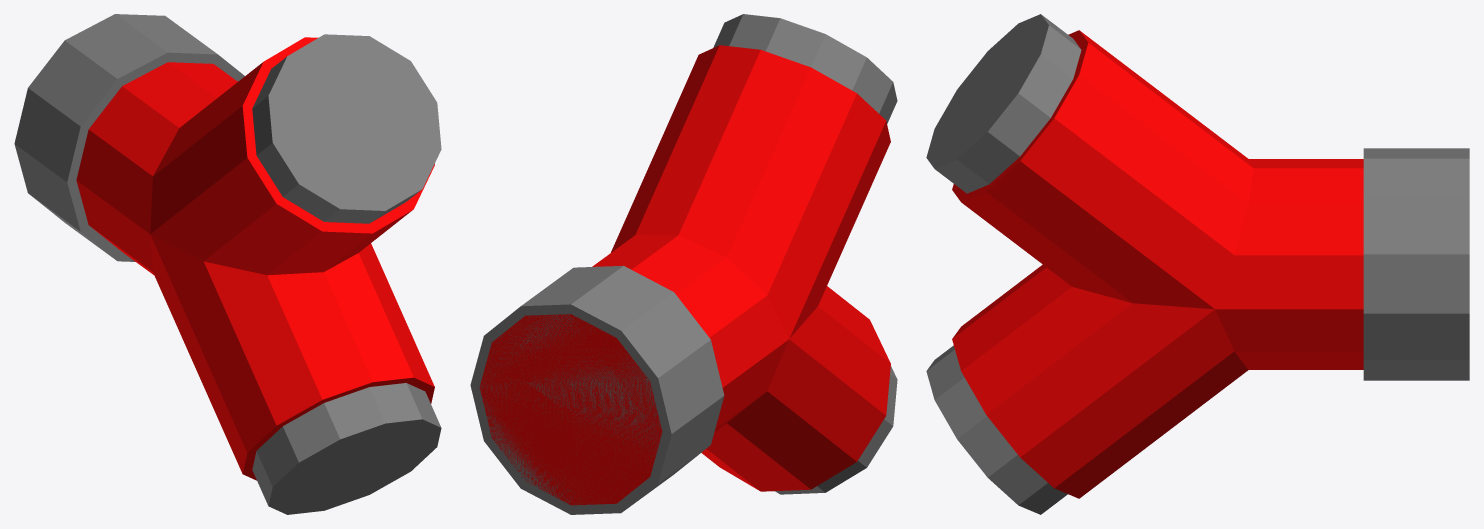
Rendered from nil_link_mesh.dae.
The picture shows the model from 3 angles, left to right: view 1: azimuth 30°, elevation 25°; view 2: azimuth 150°, elevation 25°; view 3: azimuth 270°, elevation 25°; orthographic projection.
Parts seen in each view (by area): view 1: nil_link (×6); view 2: nil_link (×6); view 3: nil_link (×6).
Boxes of the visible parts, box(x1,y1,x2,y2) form: nil_link (×6): box(14, 14, 441, 514); nil_link (×6): box(470, 14, 897, 514); nil_link (×6): box(926, 14, 1469, 514).
Bounding box in the file's own units: 0.11 × 0.2489 × 0.2562.
